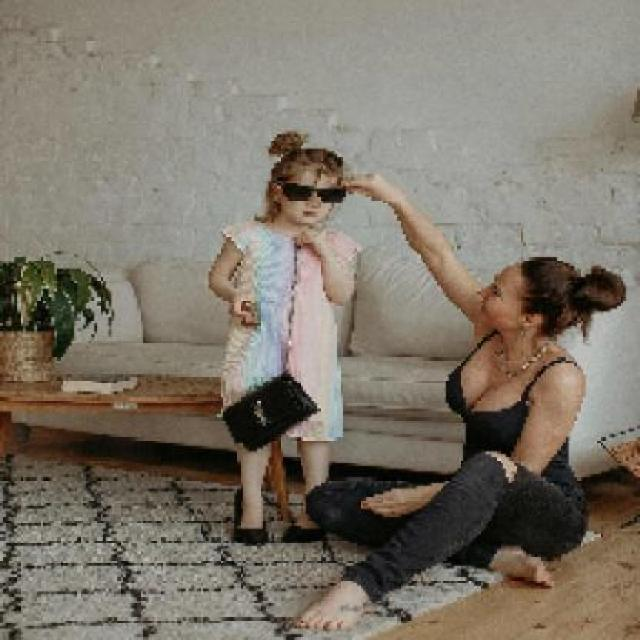child: (206, 128, 357, 528)
